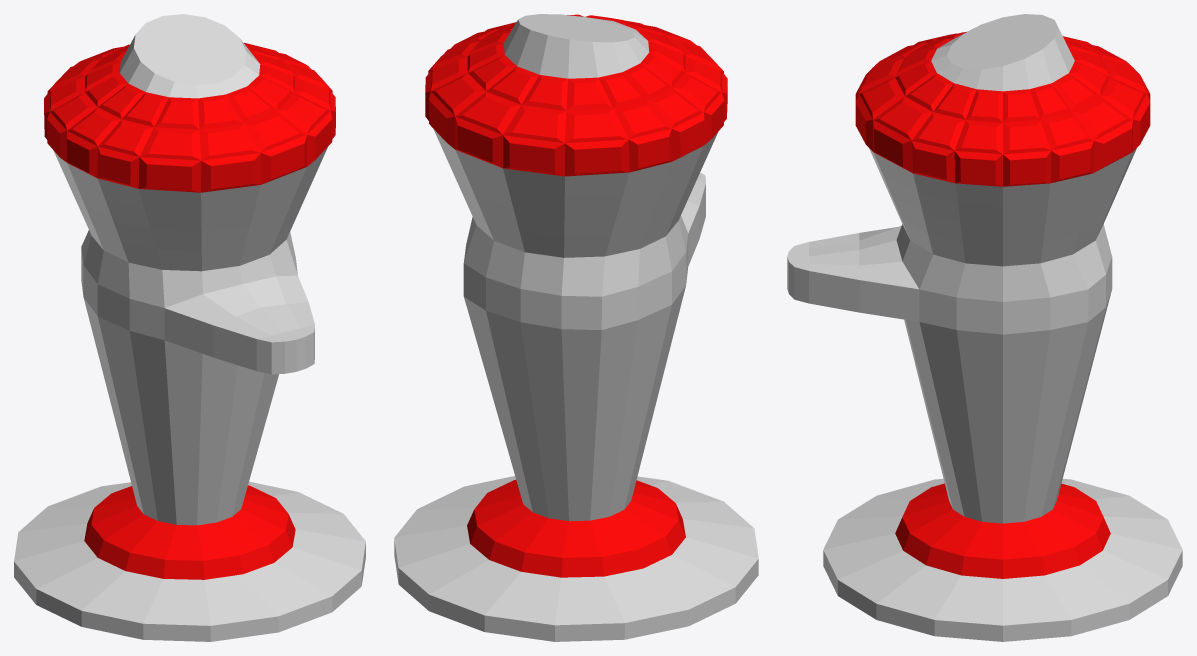
File: Estatua.glb
3 views of the same model, side by side, from view 1: azimuth 30°, elevation 25°; view 2: azimuth 150°, elevation 25°; view 3: azimuth 270°, elevation 25° (orthographic). The views are drawn at different scales.
Visible parts, largest first — view 1: Estatua; view 2: Estatua; view 3: Estatua.
Boxes of the visible parts, left/top/right/bottom form: Estatua: left=14, top=14, right=365, bottom=641; Estatua: left=394, top=14, right=758, bottom=641; Estatua: left=787, top=14, right=1182, bottom=641.
Bounding box in the file's own units: 1 × 1.65 × 1.1.
